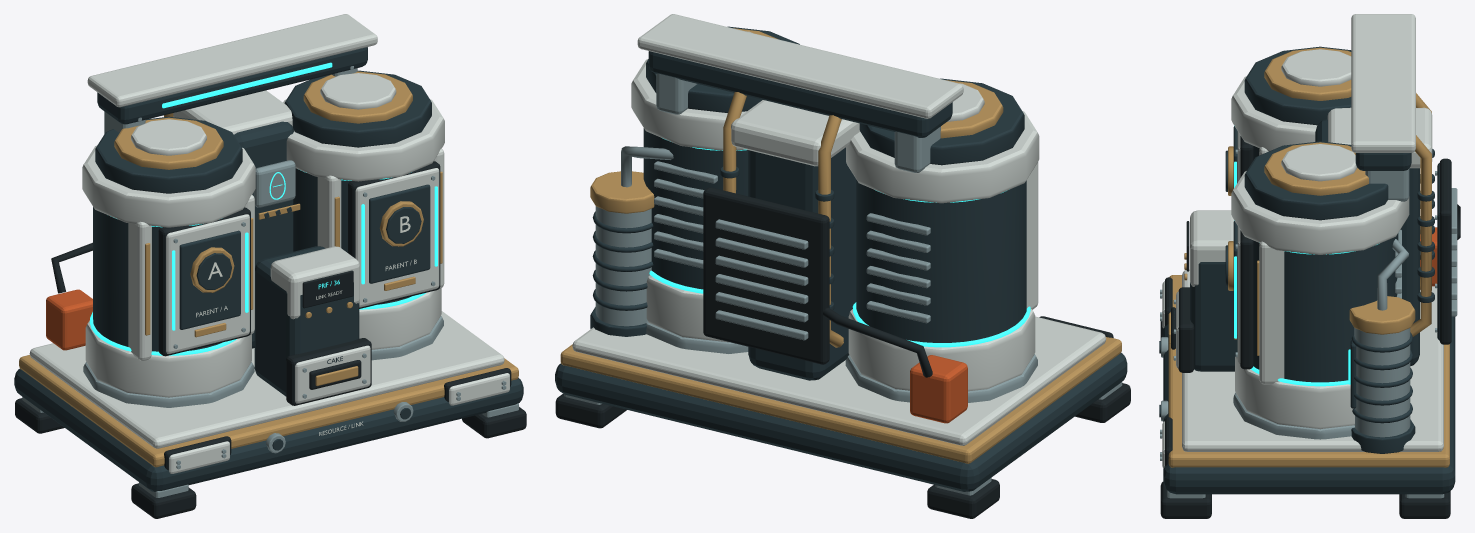
File: SM_PRF_ResourceBreedingFacility.fbx
3 views of the same model, side by side, from view 1: azimuth 30°, elevation 25°; view 2: azimuth 150°, elevation 25°; view 3: azimuth 270°, elevation 25° (orthographic). The views are drawn at different scales.
Visible parts, largest first — view 1: SM_PRF_ResourceBreedingFacility, SM_PRF_ResourceBreedingFacility_Status; view 2: SM_PRF_ResourceBreedingFacility, SM_PRF_ResourceBreedingFacility_Status; view 3: SM_PRF_ResourceBreedingFacility, SM_PRF_ResourceBreedingFacility_Status.
Boxes of the visible parts, x1,y1,x2,y2 form: SM_PRF_ResourceBreedingFacility: (14,14,526,518); SM_PRF_ResourceBreedingFacility_Status: (89,62,437,355); SM_PRF_ResourceBreedingFacility: (555,14,1130,518); SM_PRF_ResourceBreedingFacility_Status: (649,138,1030,347); SM_PRF_ResourceBreedingFacility: (1159,14,1460,518); SM_PRF_ResourceBreedingFacility_Status: (1234,161,1379,386).
Size of what is drawn, in the model's own units: 3.65 by 2.48 by 3.16.
